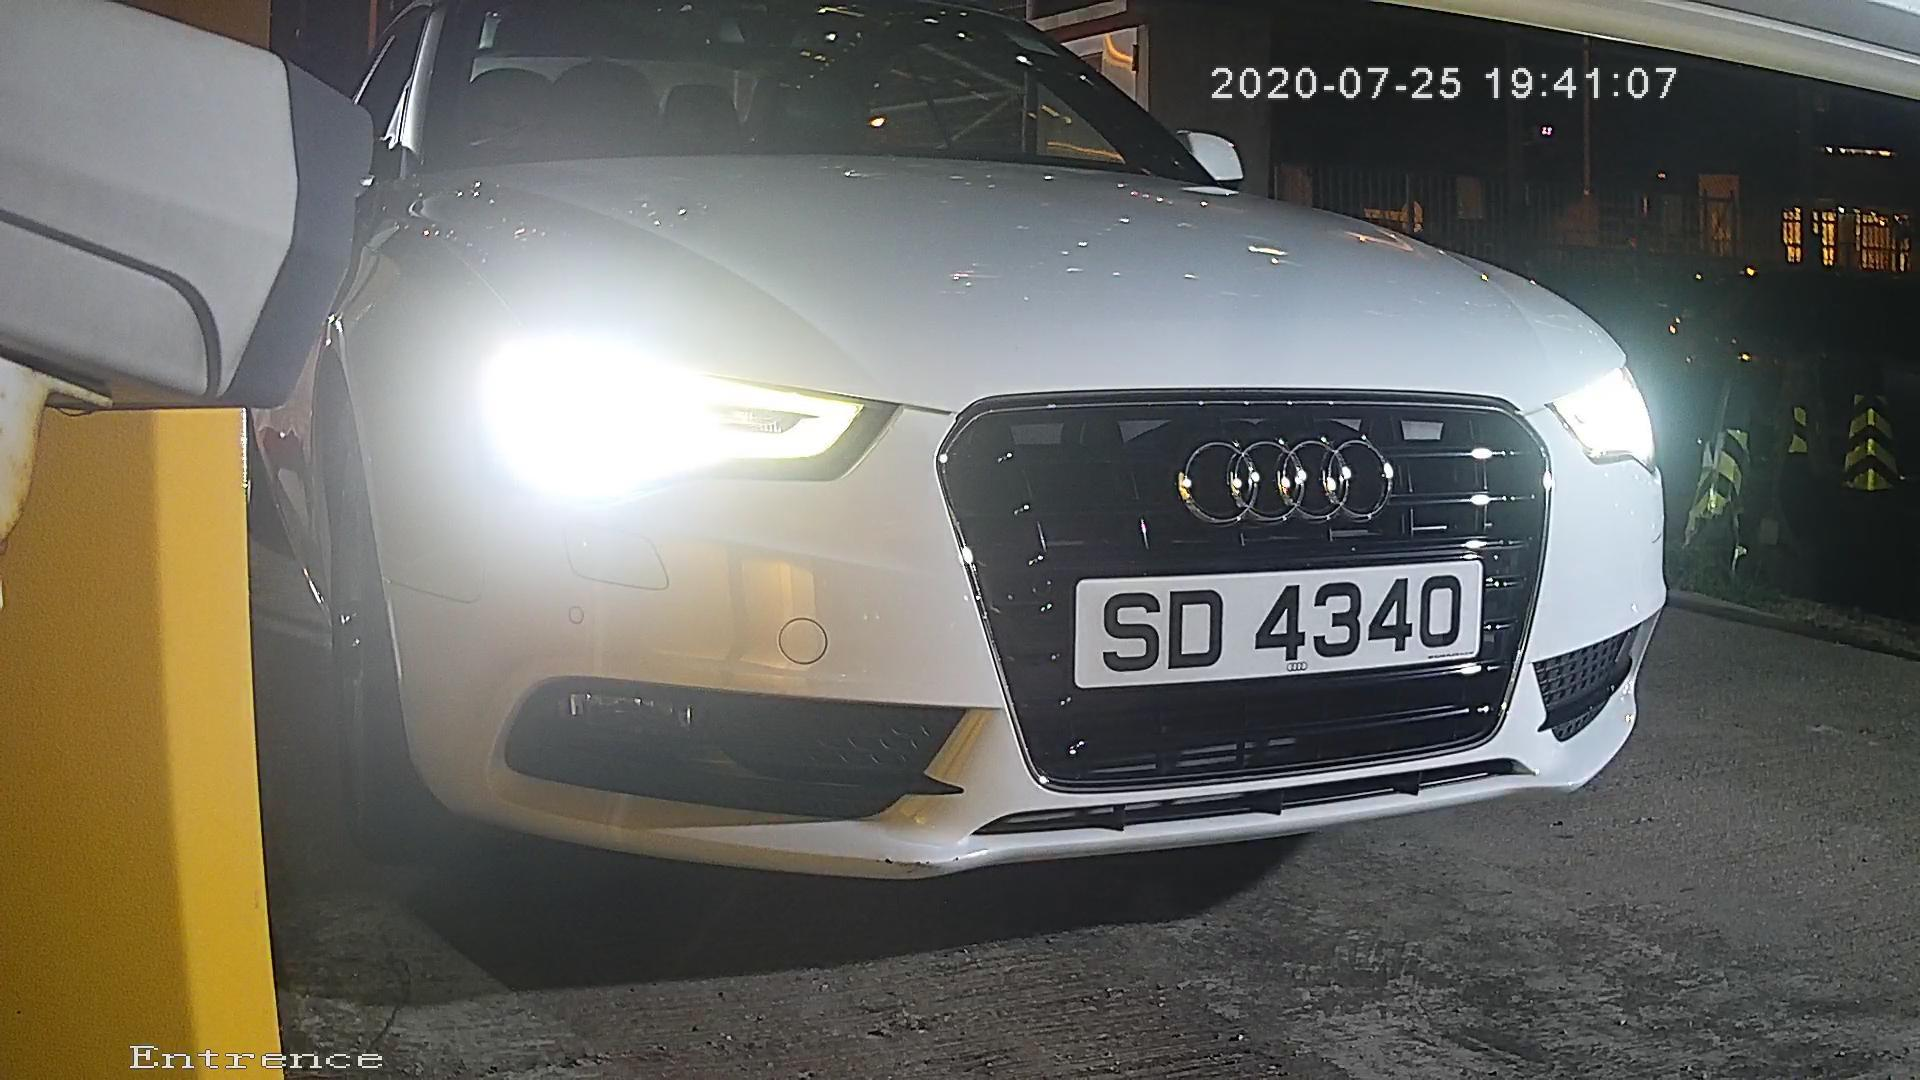privatecar: (301, 20, 1716, 916)
